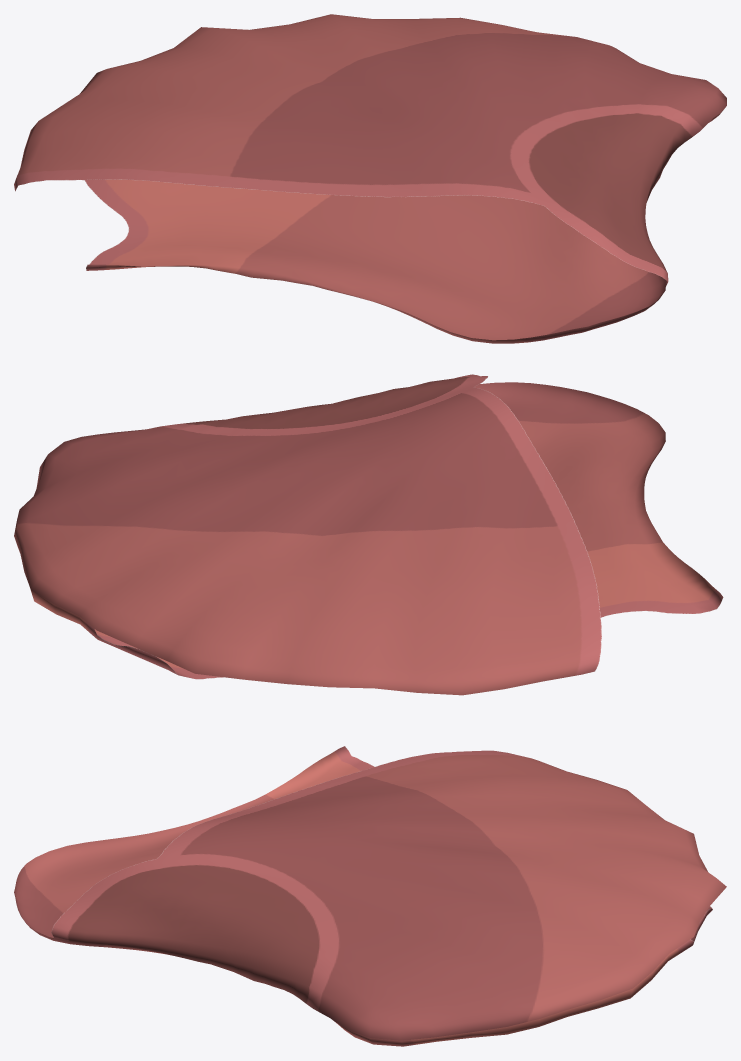
File: SeaShell_Low.fbx
3 views of the same model, one above another, from view 1: azimuth 30°, elevation 25°; view 2: azimuth 150°, elevation 25°; view 3: azimuth 270°, elevation 25° (orthographic). The views are drawn at different scales.
Visible parts, largest first — view 1: SeaShell_Low; view 2: SeaShell_Low; view 3: SeaShell_Low.
Part boxes in pixels (bbox=[...]): SeaShell_Low: bbox=[14, 14, 726, 343]; SeaShell_Low: bbox=[14, 374, 723, 695]; SeaShell_Low: bbox=[14, 746, 726, 1046].
Size of the model in its own units: 67.37 by 8.14 by 68.37.
